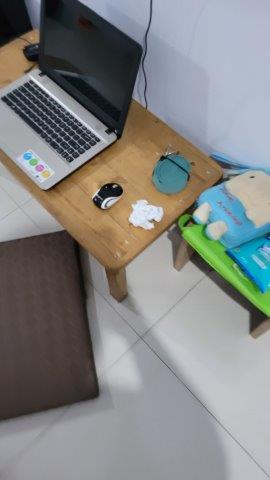kertas: (123, 198, 166, 235)
